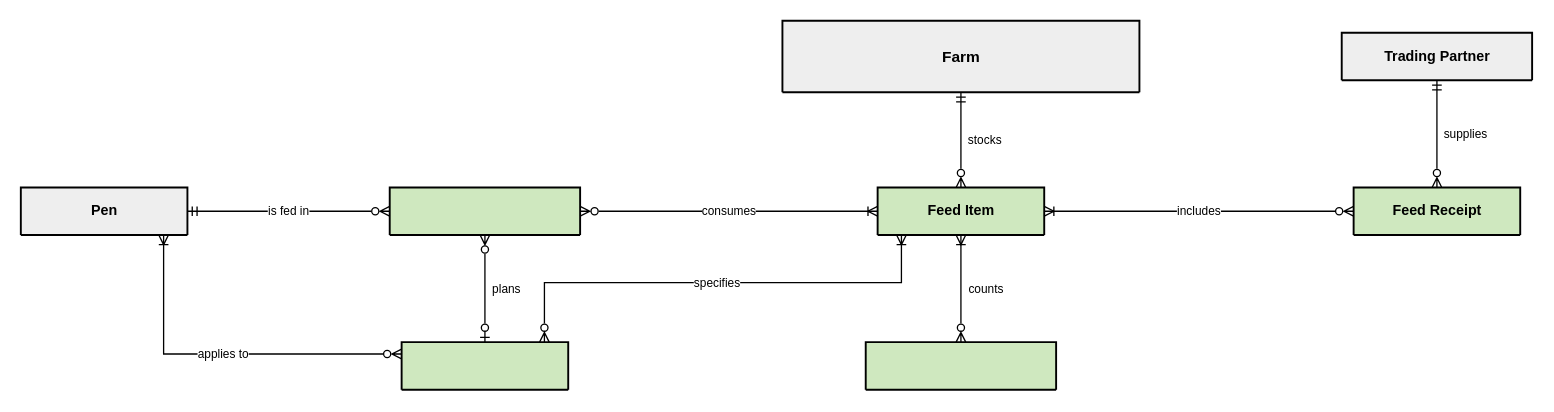
Image size: 1554x412. Some labels were removed from this diagram. Each missing label, with the box of its shape:
Feeding Record: (388, 186, 580, 235)
Ration: (400, 341, 569, 390)
Stock Adjustment: (864, 341, 1056, 390)
